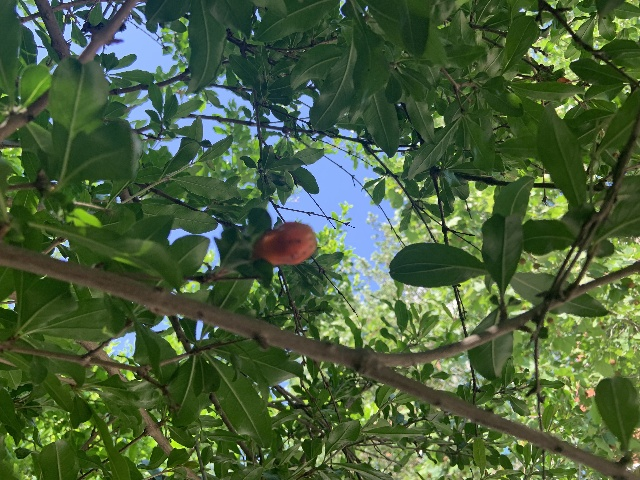bud: (254, 222, 317, 265)
